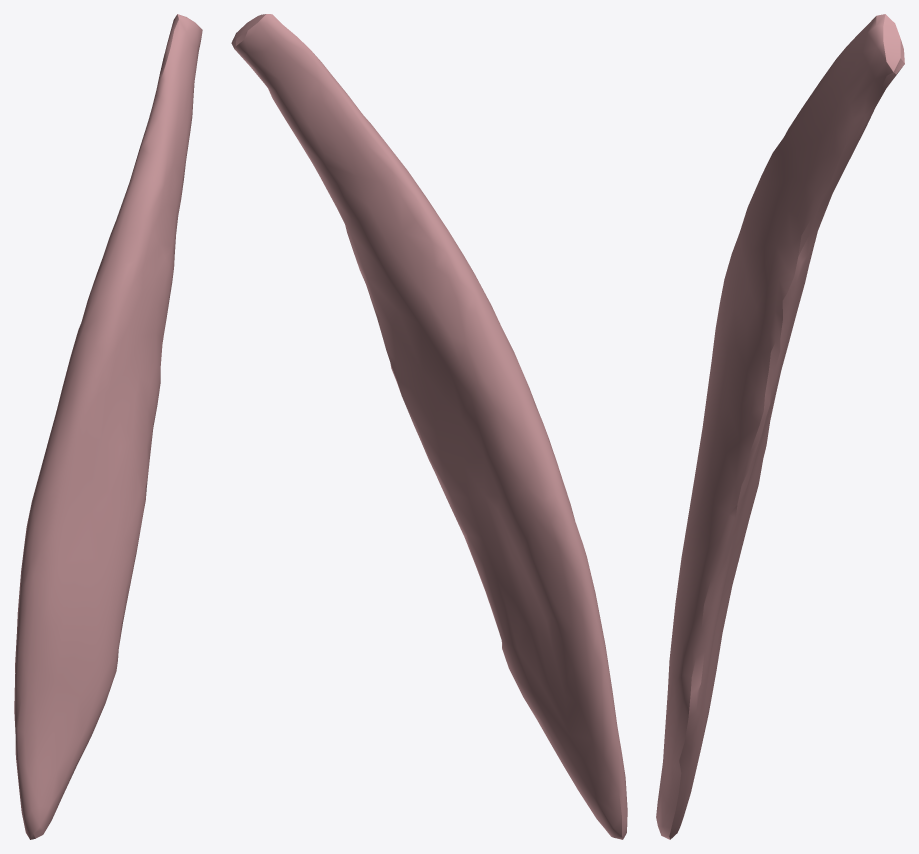
Rendered from fma38585_mm1883.glb.
3 views of the same model, side by side, from view 1: azimuth 30°, elevation 25°; view 2: azimuth 150°, elevation 25°; view 3: azimuth 270°, elevation 25° (orthographic). The views are drawn at different scales.
Visible parts, largest first — view 1: FMA38585_MM1883; view 2: FMA38585_MM1883; view 3: FMA38585_MM1883.
Part boxes in pixels (x1,y1,x2,y2): FMA38585_MM1883: [14, 14, 202, 839]; FMA38585_MM1883: [231, 14, 627, 839]; FMA38585_MM1883: [656, 14, 904, 839].
Bounding box in the file's own units: 0.0614 × 0.1606 × 0.0373.
